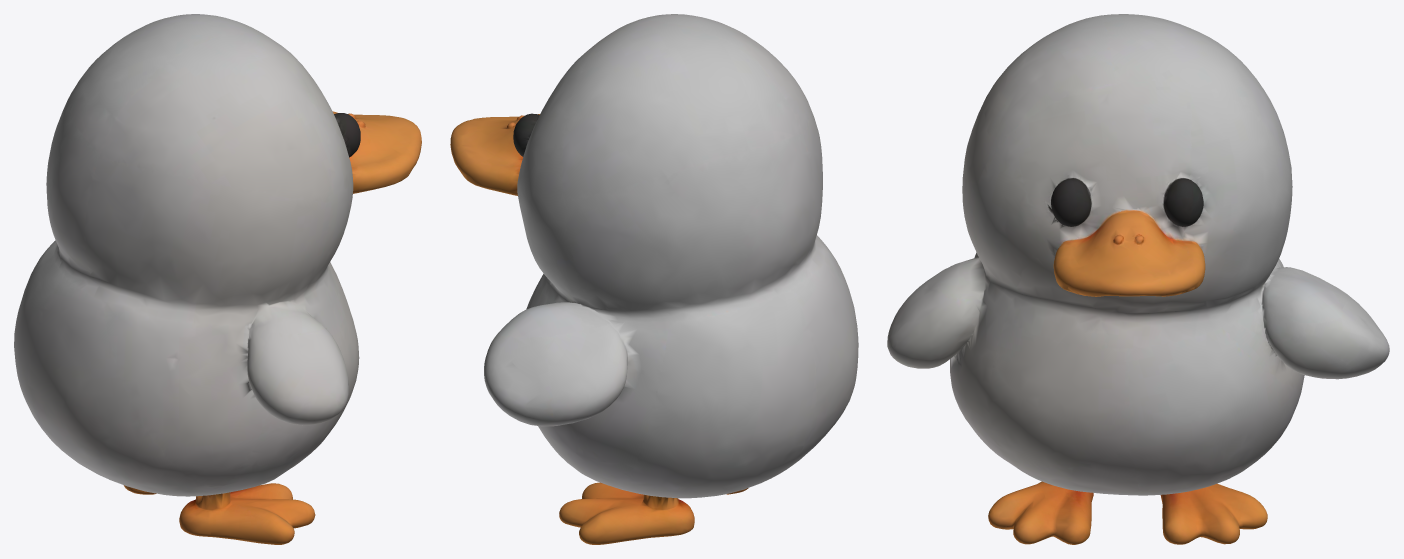
Rendered from duck.glb.
3 views of the same model, side by side, from view 1: azimuth 30°, elevation 25°; view 2: azimuth 150°, elevation 25°; view 3: azimuth 270°, elevation 25° (orthographic). The views are drawn at different scales.
Visible parts, largest first — view 1: tripo_node_a679bf8c-09b5-4e06-a1d4-a5f1682a0ef8; view 2: tripo_node_a679bf8c-09b5-4e06-a1d4-a5f1682a0ef8; view 3: tripo_node_a679bf8c-09b5-4e06-a1d4-a5f1682a0ef8.
Boxes of the visible parts, <box> form: tripo_node_a679bf8c-09b5-4e06-a1d4-a5f1682a0ef8: <box>14,14,421,544</box>; tripo_node_a679bf8c-09b5-4e06-a1d4-a5f1682a0ef8: <box>450,14,858,544</box>; tripo_node_a679bf8c-09b5-4e06-a1d4-a5f1682a0ef8: <box>887,14,1389,544</box>.
Size of the model in its own units: 0.8273 by 0.9994 by 0.9283.
1 material, 1 textured.
